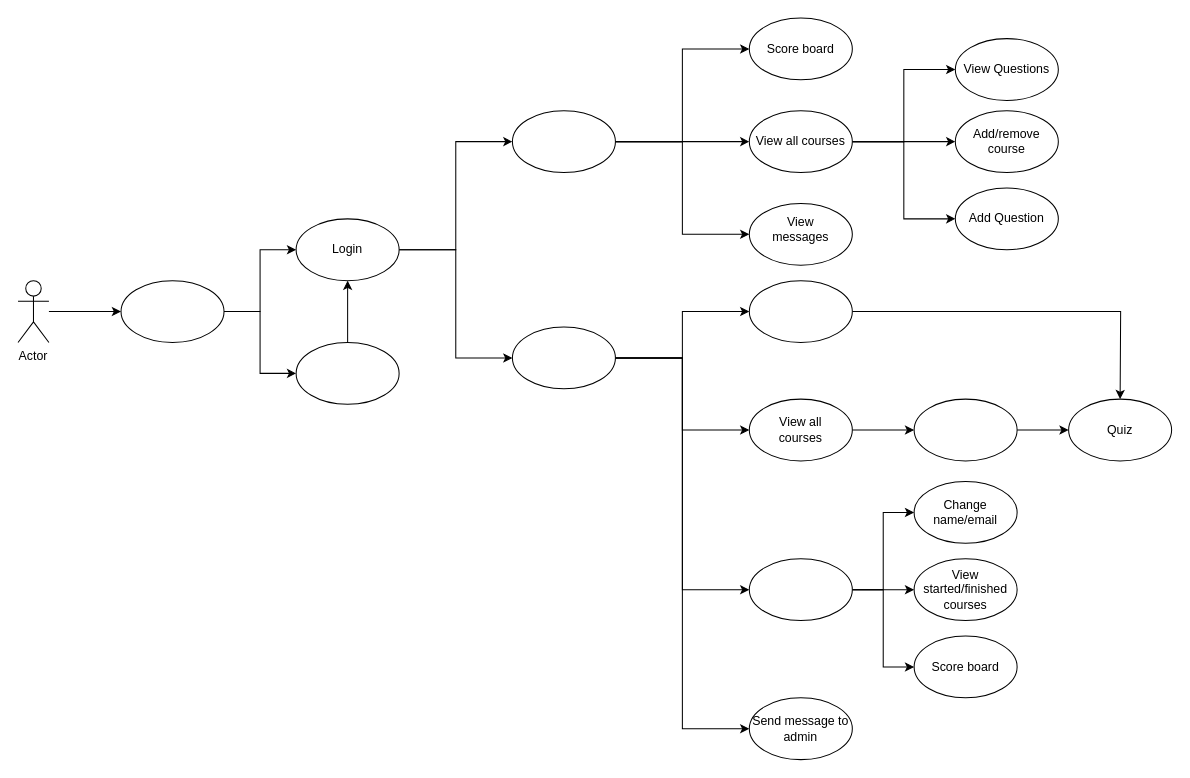
The diagram is 1190 pixels wide and 778 high, and some of its shapes have lost their labels. The centre of each missing label's shape, as x and y in pixels:
Admin: the point at 563,141
Continue a course: the point at 800,311
Landing Page: the point at 172,311
Profile: the point at 800,589
Register: the point at 347,372
Start a new course: the point at 965,429
User: the point at 563,357
